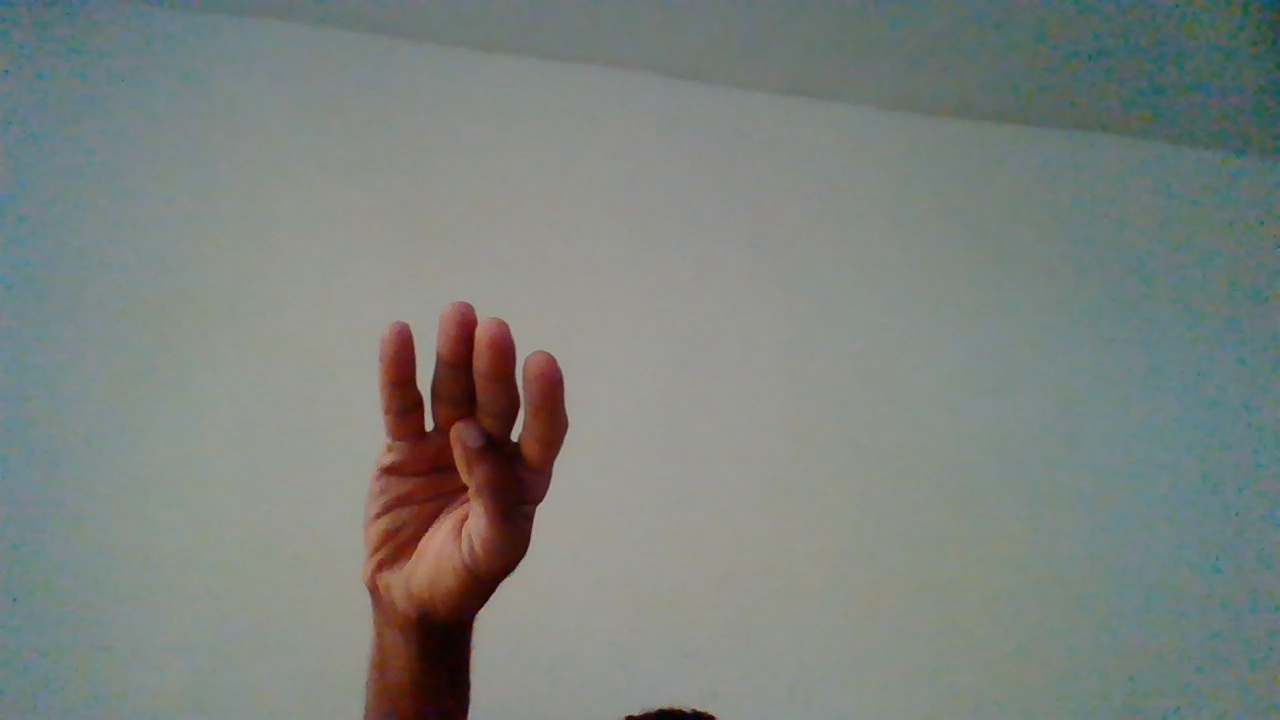me: (358, 302, 568, 704)
